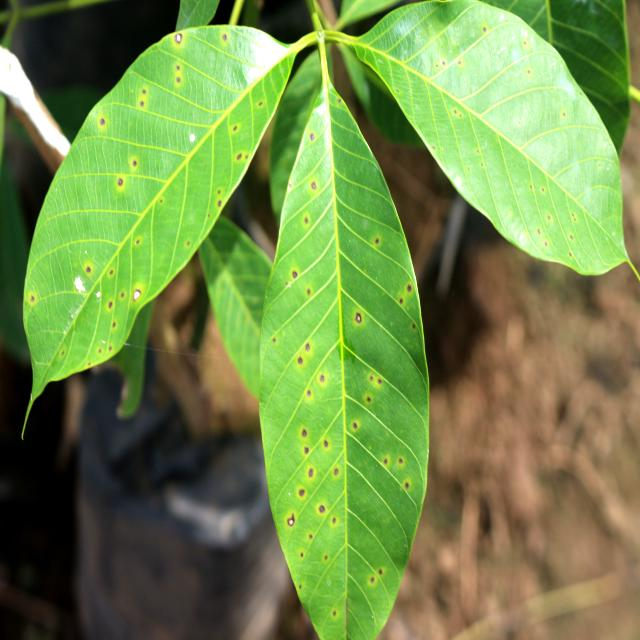Colletotrichum: (286, 516, 295, 526), (133, 290, 141, 301), (175, 33, 182, 43), (356, 313, 362, 323)
